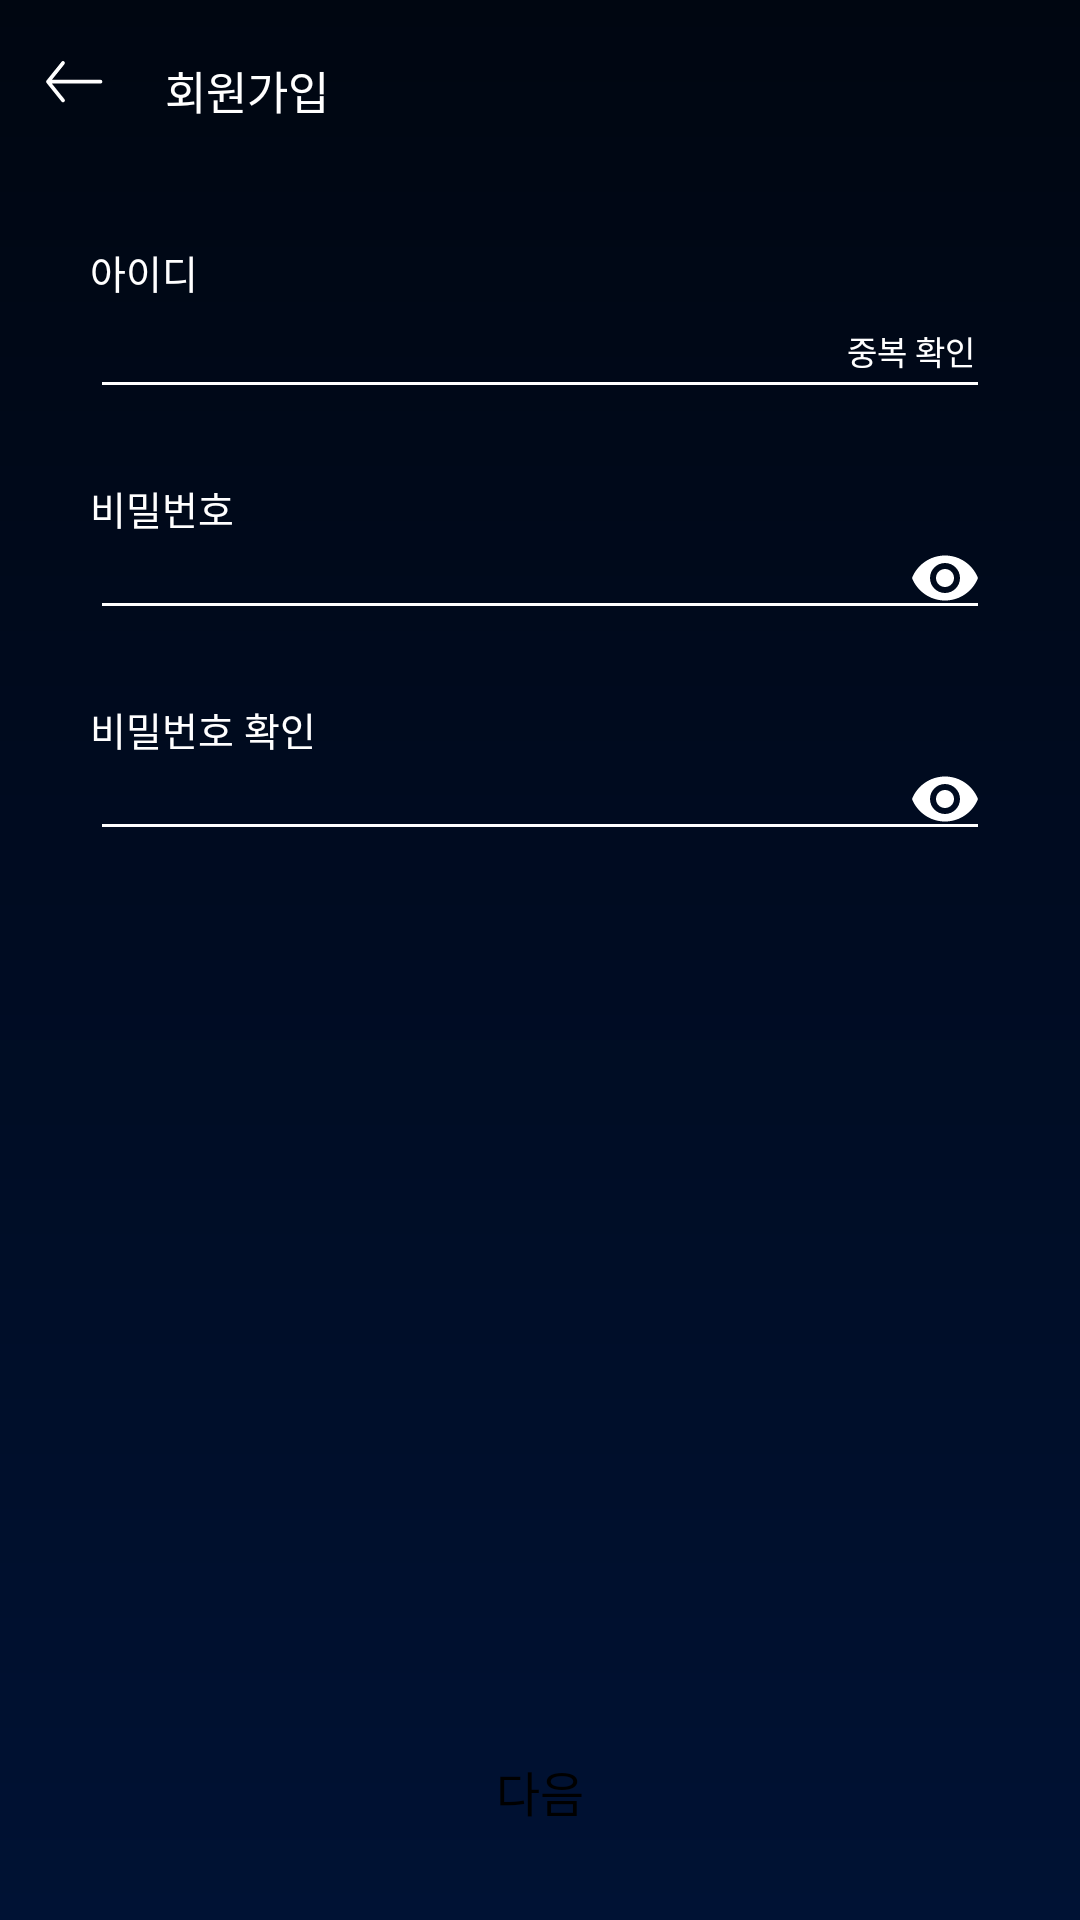

Icons on this 1080×1920 Android screen, each with the point to tap as (x=x, y=y):
back: (x=74, y=82)
